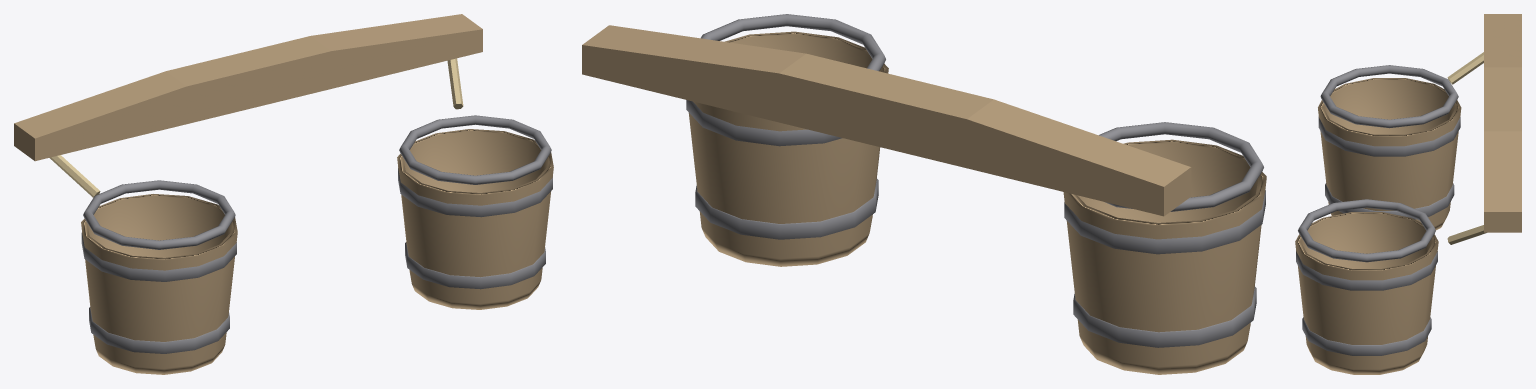
File: korean-hanok-village-and-street-wooden-bucket-pair-2b3f71d9__38077.glb
3 renders of one model, left to right at view 1: azimuth 30°, elevation 25°; view 2: azimuth 150°, elevation 25°; view 3: azimuth 270°, elevation 25°, orthographic. The views are drawn at different scales.
Visible parts, largest first — view 1: wooden-bucket-pair; view 2: wooden-bucket-pair; view 3: wooden-bucket-pair.
Part boxes in pixels (left/top/right/bottom): wooden-bucket-pair: left=14, top=14, right=553, bottom=374; wooden-bucket-pair: left=582, top=14, right=1266, bottom=374; wooden-bucket-pair: left=1295, top=14, right=1521, bottom=374.
Bounding box in the file's own units: 1.24 × 0.54 × 0.5999.
